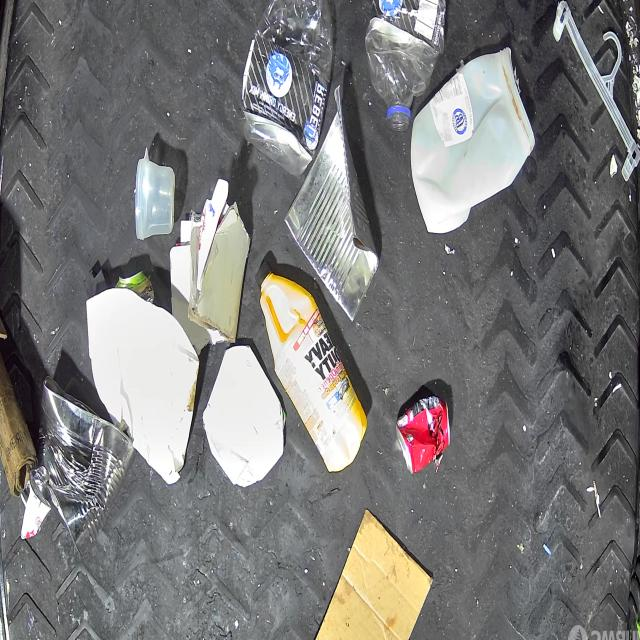can: (30, 376, 134, 556), (396, 396, 450, 476), (116, 272, 154, 304)
milk_jug: (411, 48, 536, 232)
non_white_jug: (253, 266, 365, 478)
plastic_bottle: (242, 0, 334, 179), (365, 0, 447, 132)
